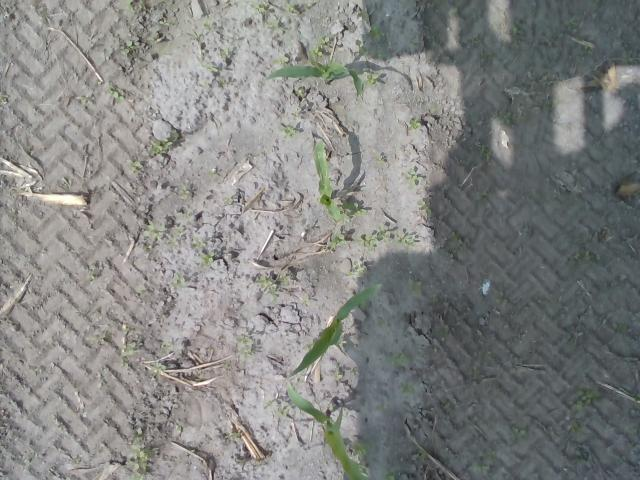Maize: (288, 286, 378, 379), (286, 386, 368, 480), (262, 50, 363, 96), (314, 140, 341, 220)
Weeds: (358, 226, 416, 250), (126, 431, 150, 480), (148, 129, 185, 157), (464, 31, 496, 62), (143, 222, 184, 246), (309, 33, 334, 64), (189, 237, 214, 268), (472, 446, 498, 474), (354, 38, 386, 58), (340, 198, 371, 218), (565, 398, 583, 431), (351, 438, 378, 458), (255, 274, 278, 296), (406, 277, 426, 300), (238, 336, 256, 360), (264, 398, 286, 416), (576, 388, 600, 404), (403, 169, 424, 187), (388, 351, 414, 365), (448, 239, 466, 259), (326, 232, 344, 251), (509, 22, 521, 48), (572, 250, 594, 264), (120, 38, 135, 58), (368, 25, 386, 41), (276, 125, 298, 138), (399, 382, 419, 395), (621, 50, 637, 66), (512, 425, 528, 441), (128, 158, 146, 172), (501, 110, 517, 125), (565, 16, 580, 32), (201, 61, 220, 73), (417, 201, 433, 215), (478, 142, 490, 160), (495, 292, 510, 306), (367, 70, 380, 86), (108, 88, 125, 100), (382, 468, 399, 480), (270, 54, 290, 64), (158, 18, 176, 29), (202, 17, 216, 31), (153, 361, 166, 376), (120, 342, 136, 354), (252, 0, 269, 11), (284, 0, 298, 13), (445, 6, 459, 19), (217, 46, 230, 60), (172, 272, 184, 286), (146, 35, 162, 45), (350, 265, 366, 275), (276, 274, 292, 284), (179, 184, 189, 198), (408, 118, 421, 128), (294, 87, 305, 98), (266, 18, 278, 28), (190, 30, 202, 40), (223, 195, 233, 206), (206, 168, 218, 176), (374, 403, 384, 412), (120, 358, 129, 368), (126, 3, 136, 12), (335, 368, 342, 380), (292, 110, 301, 119), (164, 341, 172, 350), (0, 94, 9, 102), (87, 270, 94, 280)
